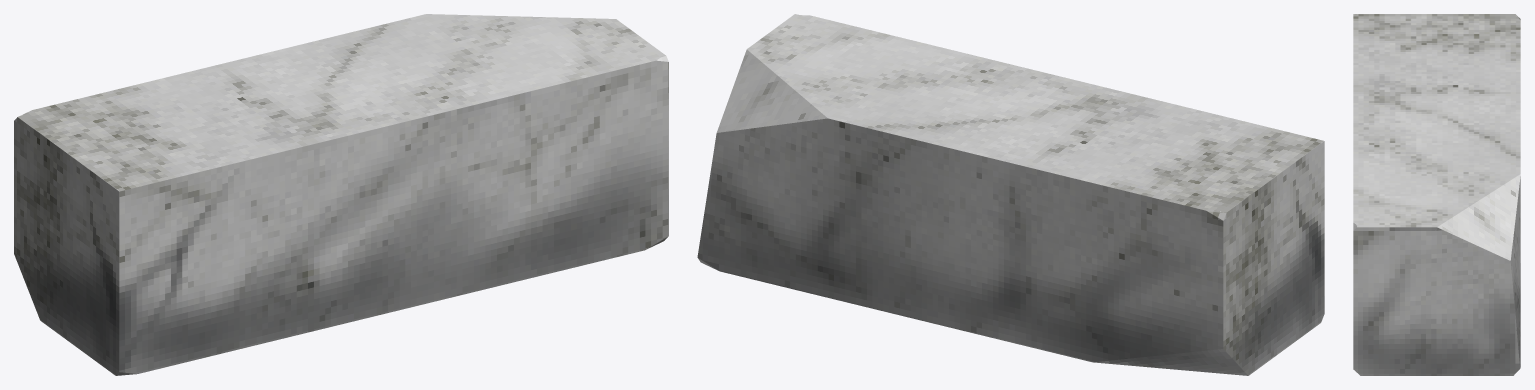
Rendered from loosebrick.fbx.
3 renders of one model, left to right at view 1: azimuth 30°, elevation 25°; view 2: azimuth 150°, elevation 25°; view 3: azimuth 270°, elevation 25°, orthographic. The views are drawn at different scales.
Visible parts, largest first — view 1: Loose Brick; view 2: Loose Brick; view 3: Loose Brick.
Boxes of the visible parts, x1,y1,x2,y2 form: Loose Brick: [14, 14, 668, 375]; Loose Brick: [697, 14, 1324, 375]; Loose Brick: [1353, 14, 1520, 375].
Bounding box in the file's own units: 602 × 196 × 200.
